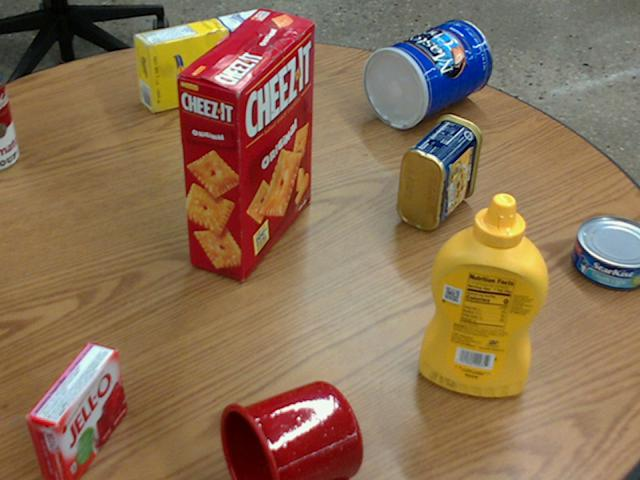cracker_box: (176, 9, 315, 280)
gelatin_box: (20, 342, 122, 479)
master_chef_can: (361, 19, 490, 127)
mug: (216, 381, 361, 479)
mustard_bottle: (417, 193, 547, 396)
potted_meat_can: (397, 113, 480, 229)
sugar_box: (133, 7, 271, 110)
tomato_soup_can: (0, 70, 16, 168)
tuna_fish_can: (569, 215, 639, 290)
